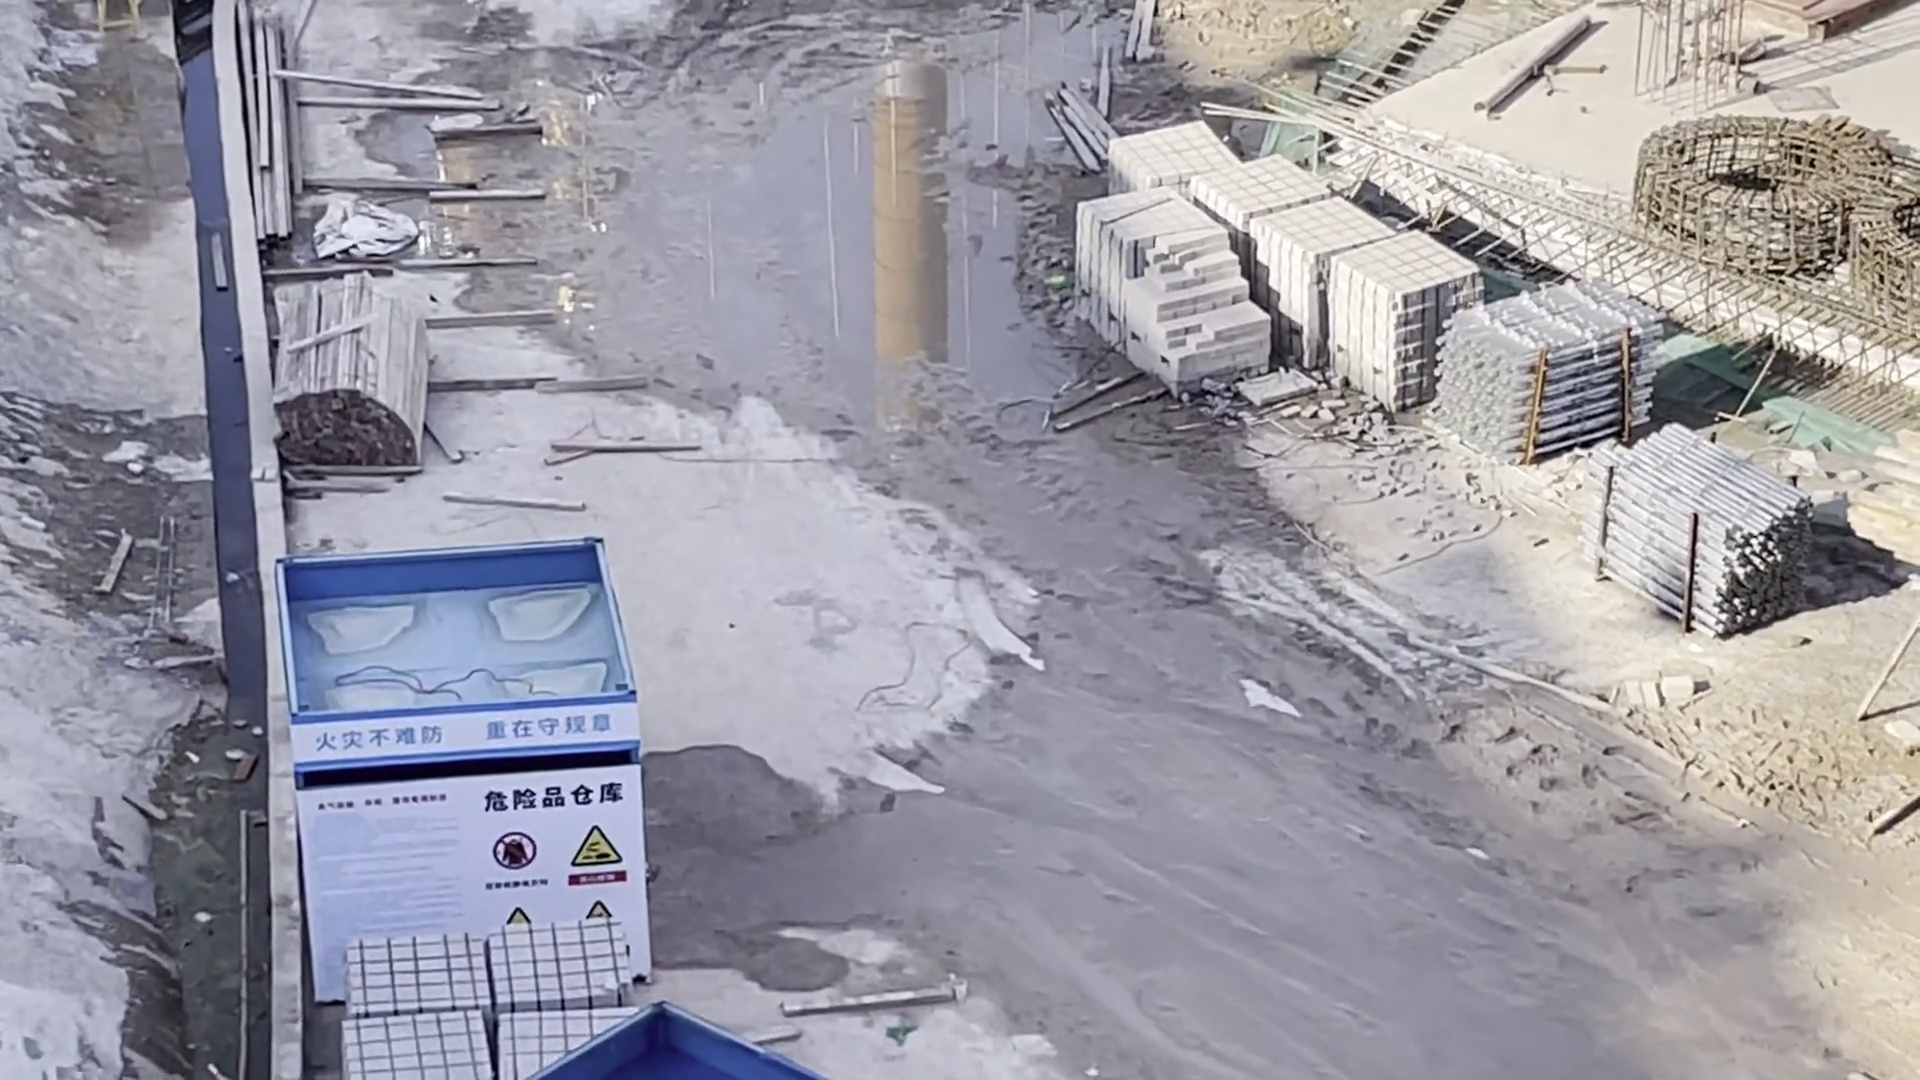brick: (1087, 138, 1466, 380)
scaffold: (1586, 430, 1808, 633), (1447, 287, 1655, 444)
slogan: (298, 705, 632, 762), (479, 820, 642, 924)
wood: (270, 284, 435, 483)
